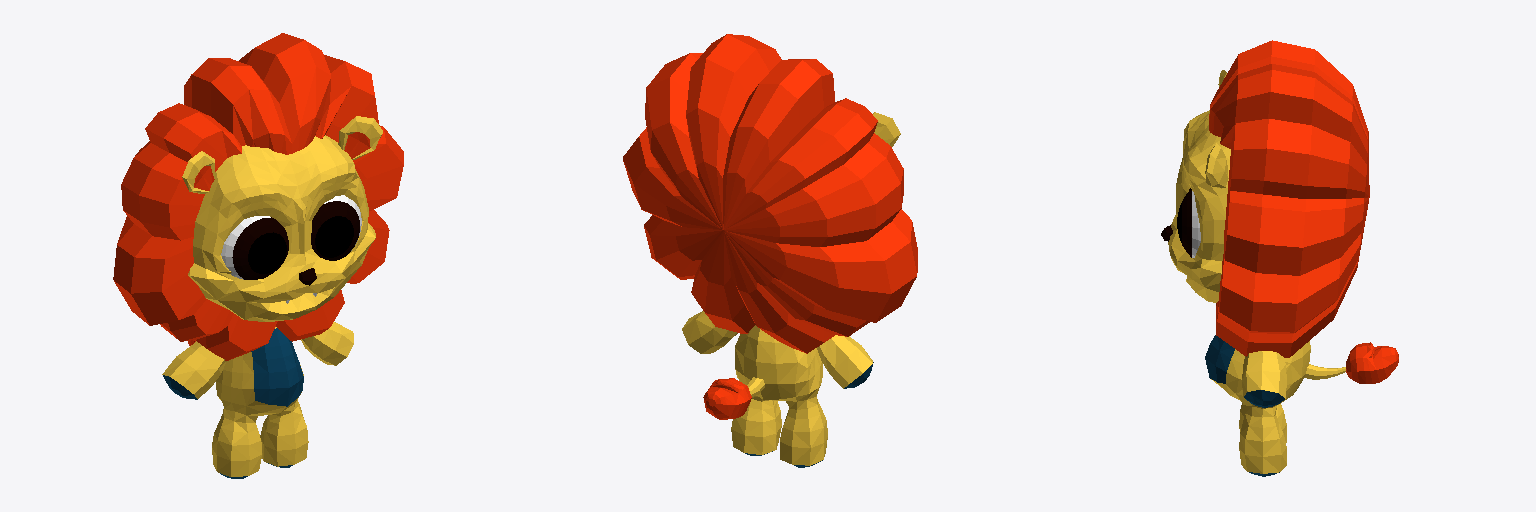
The model's file is LionToy.obj.
The picture shows the model from 3 angles: view 1: azimuth 30°, elevation 25°; view 2: azimuth 150°, elevation 25°; view 3: azimuth 270°, elevation 25°; orthographic projection.
Parts seen in each view (by area): view 1: pCylinder1, front1 polySurface7, front1 polySurface11, polySurface12 front1, front1 polySurface13 polySurface10; view 2: pCylinder1, front1 polySurface7, polySurface14, front1 polySurface13 polySurface10; view 3: pCylinder1, front1 polySurface7, polySurface14, polySurface12 front1, front1 polySurface13 polySurface10.
Boxes of the visible parts, <box> form: pCylinder1: <box>113,33,403,360</box>; front1 polySurface7: <box>162,135,375,478</box>; front1 polySurface11: <box>221,216,288,279</box>; polySurface12 front1: <box>311,195,361,260</box>; front1 polySurface13 polySurface10: <box>182,116,382,193</box>; pCylinder1: <box>623,34,917,353</box>; front1 polySurface7: <box>682,311,873,467</box>; polySurface14: <box>703,377,764,419</box>; front1 polySurface13 polySurface10: <box>873,112,900,146</box>; pCylinder1: <box>1209,40,1369,357</box>; front1 polySurface7: <box>1168,110,1310,476</box>; polySurface14: <box>1304,342,1398,383</box>; polySurface12 front1: <box>1177,189,1200,257</box>; front1 polySurface13 polySurface10: <box>1205,70,1228,188</box>.
Bounding box in the file's own units: 6.37 × 9.23 × 4.79.